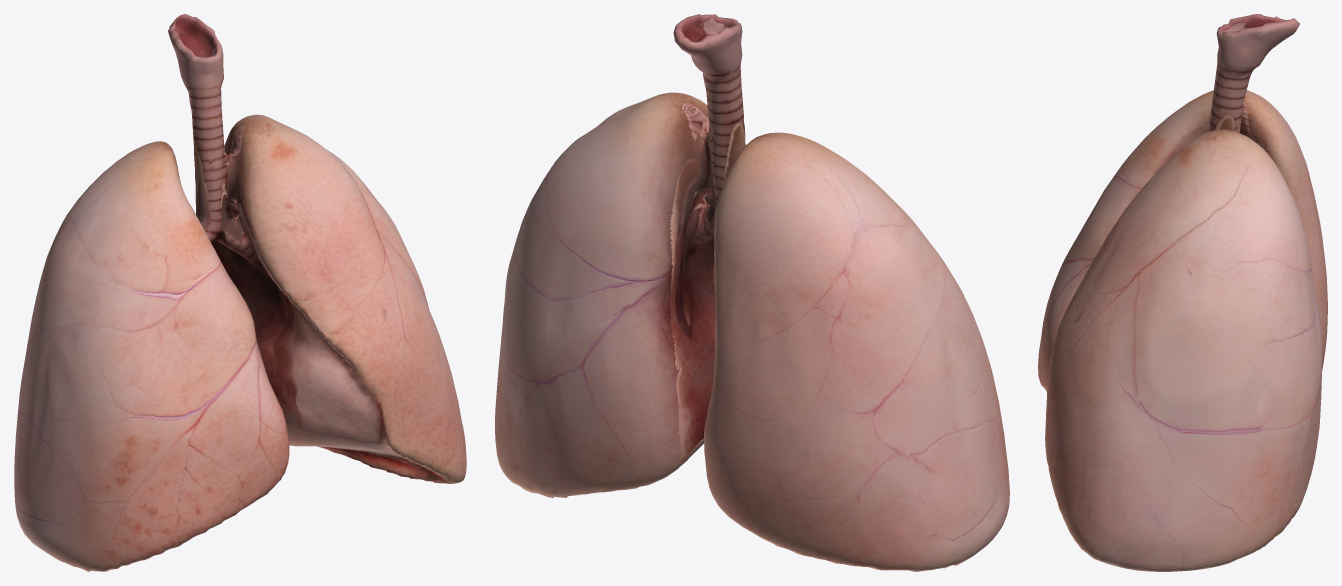
The model's file is lungs.fbx.
The picture shows the model from 3 angles, left to right: view 1: azimuth 30°, elevation 25°; view 2: azimuth 150°, elevation 25°; view 3: azimuth 270°, elevation 25°; orthographic projection. The views are drawn at different scales.
Parts seen in each view (by area): view 1: lungs_lp; view 2: lungs_lp; view 3: lungs_lp.
Part boxes in pixels (x1=…): lungs_lp: x1=14, y1=14, x2=466, y2=571; lungs_lp: x1=495, y1=14, x2=1009, y2=571; lungs_lp: x1=1038, y1=14, x2=1327, y2=571.
Size of the model in its own units: 0.8376 by 0.8789 by 0.5051.
1 material, 1 textured.
